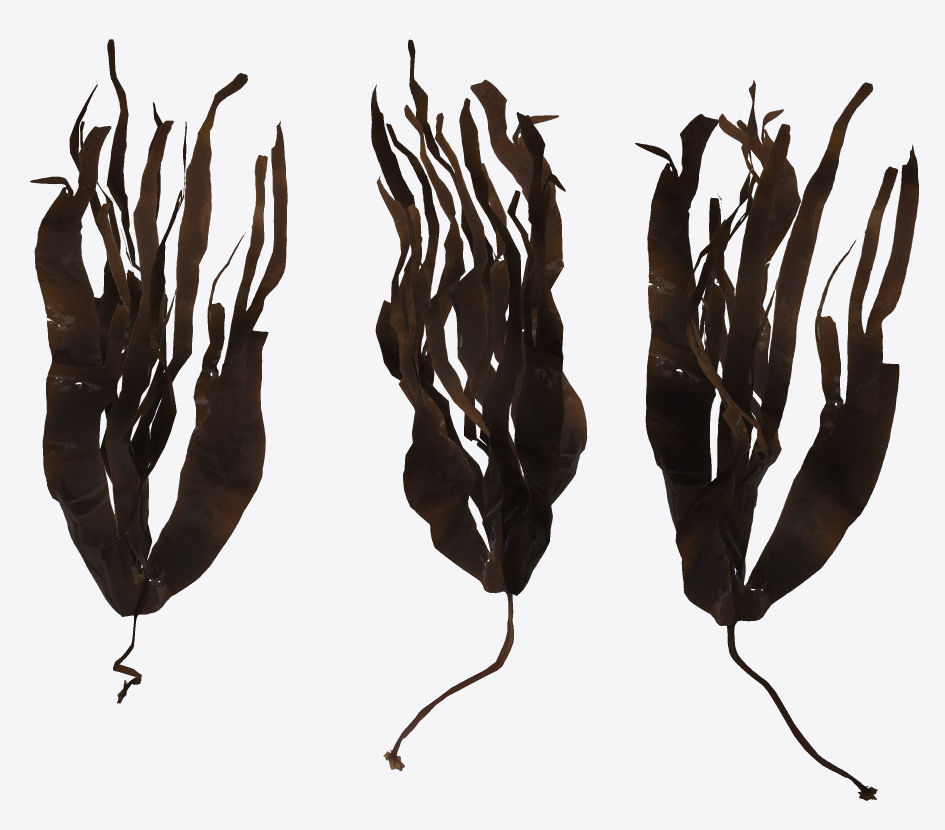
Rendered from algue_03.fbx.
The picture shows the model from 3 angles, left to right: view 1: azimuth 30°, elevation 25°; view 2: azimuth 150°, elevation 25°; view 3: azimuth 270°, elevation 25°; orthographic projection. The views are drawn at different scales.
Parts seen in each view (by area): view 1: Gross-morphology-of-Laminaria-digitata-A-and-B-and-Hedophyl.; view 2: Gross-morphology-of-Laminaria-digitata-A-and-B-and-Hedophyl.; view 3: Gross-morphology-of-Laminaria-digitata-A-and-B-and-Hedophyl..
Boxes of the visible parts, box(x1,y1,x2,y2) form: Gross-morphology-of-Laminaria-digitata-A-and-B-and-Hedophyl.: box(30, 39, 287, 703); Gross-morphology-of-Laminaria-digitata-A-and-B-and-Hedophyl.: box(371, 39, 587, 770); Gross-morphology-of-Laminaria-digitata-A-and-B-and-Hedophyl.: box(635, 80, 918, 800).
Bounding box in the file's own units: 100 × 274 × 100.
